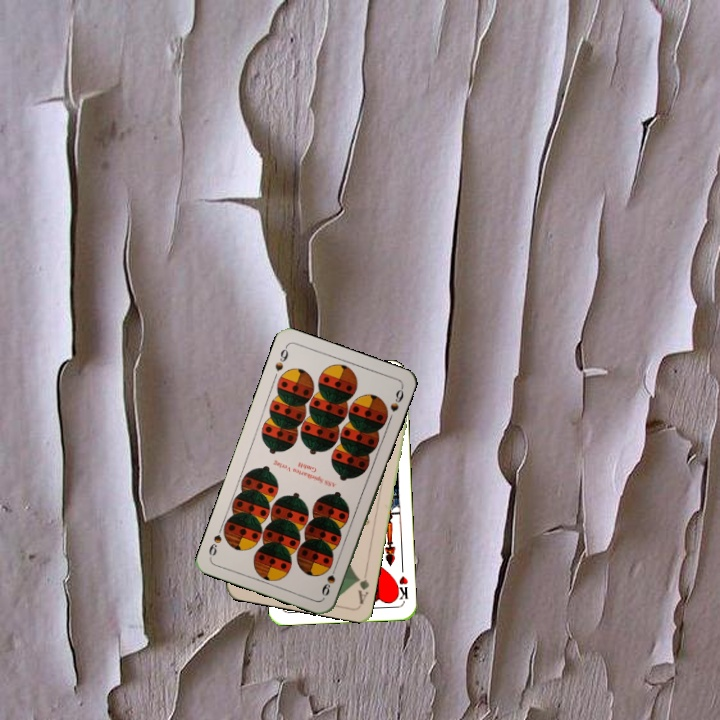GA: (353, 566, 372, 606)
HK: (391, 563, 410, 604)
S9: (317, 560, 340, 598), (271, 342, 291, 374)
